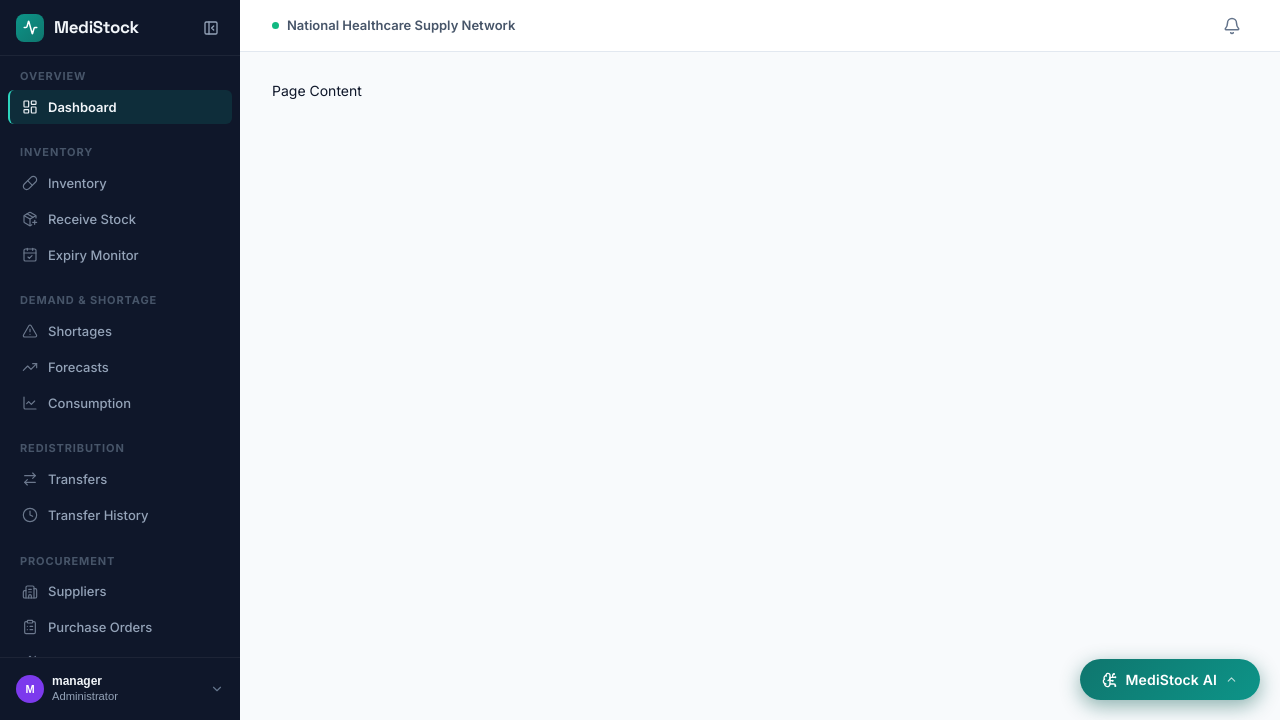
Scenario: DashboardLayout Global Navigation Sidebar › logout button is present in dropdown
The width and height of the screenshot is (1280, 720).
What coordinates should you click on to do the following:
click the button named "User menu"
I would click on:
 (120, 689)
Its box is x1=8 y1=670 x2=232 y2=708.
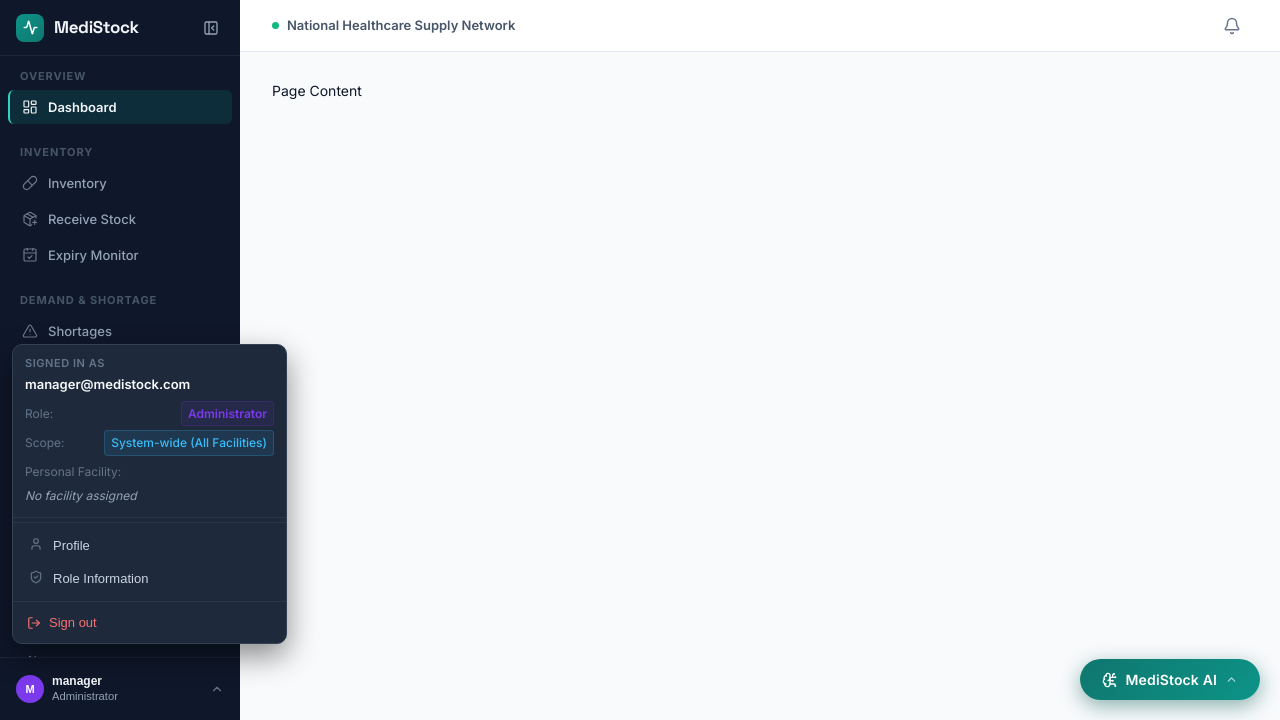
Check: the menu item "Sign out" is shown, box x1=19 y1=608 x2=280 y2=637
